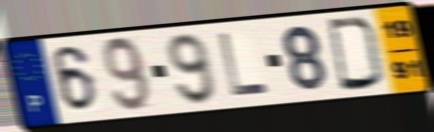6: (51, 44, 100, 115)
8: (281, 23, 330, 95)
9: (102, 34, 154, 116), (166, 31, 217, 106)
D: (324, 16, 386, 93)
L: (216, 31, 272, 99)
